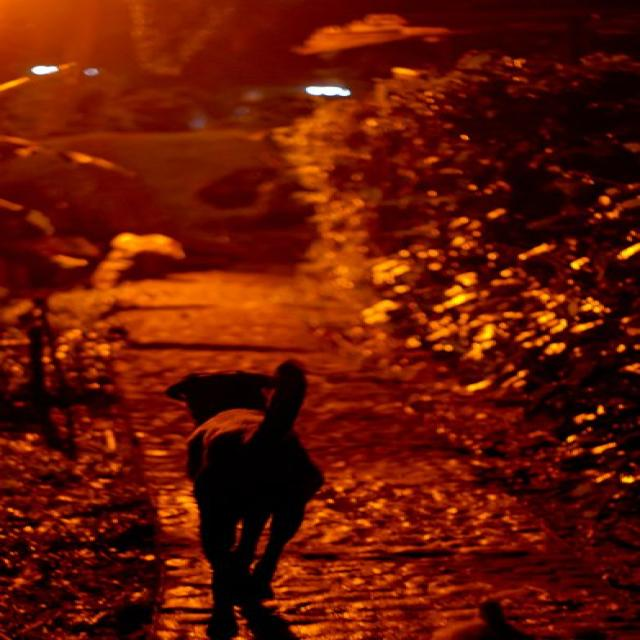Dog: (146, 349, 437, 606)
